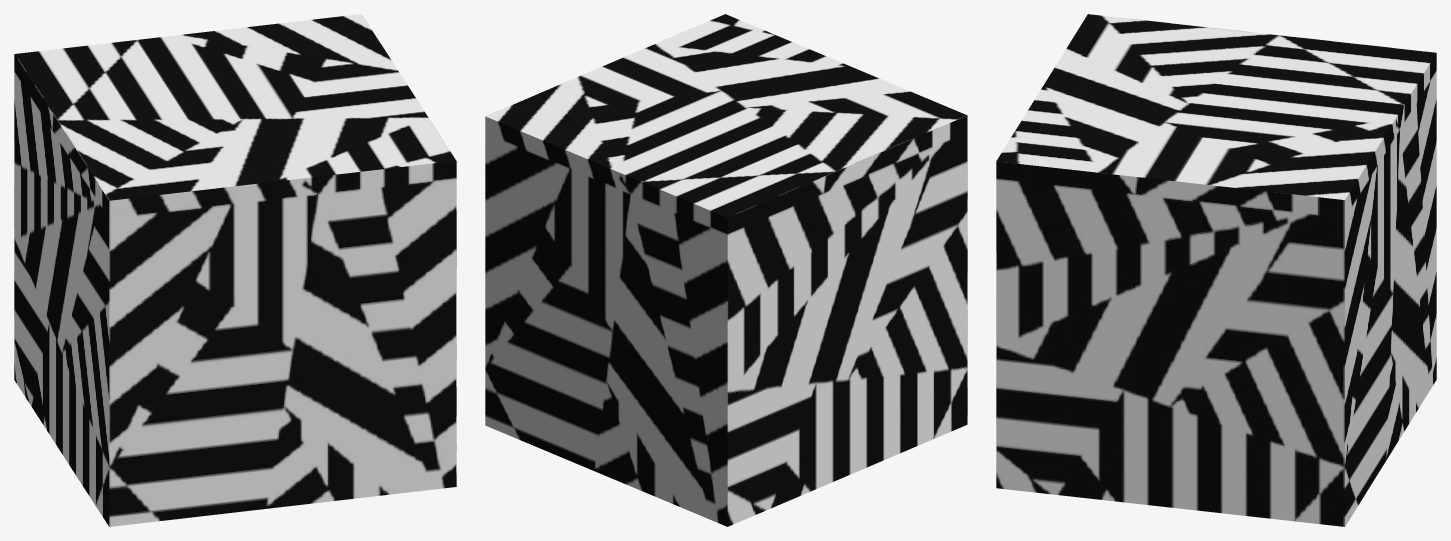
The picture shows the model from 3 angles, left to right: view 1: azimuth 30°, elevation 25°; view 2: azimuth 150°, elevation 25°; view 3: azimuth 270°, elevation 25°; orthographic projection. The views are drawn at different scales.
Visible parts, largest first — view 1: Cube.019; view 2: Cube.019; view 3: Cube.019.
Part boxes in pixels (x1,y1,x2,y2): Cube.019: (14, 14, 456, 526); Cube.019: (485, 14, 967, 526); Cube.019: (996, 14, 1436, 526).
Bounding box in the file's own units: 6.15 × 5.03 × 6.15.
Materials: 1 (1 with a texture image).
